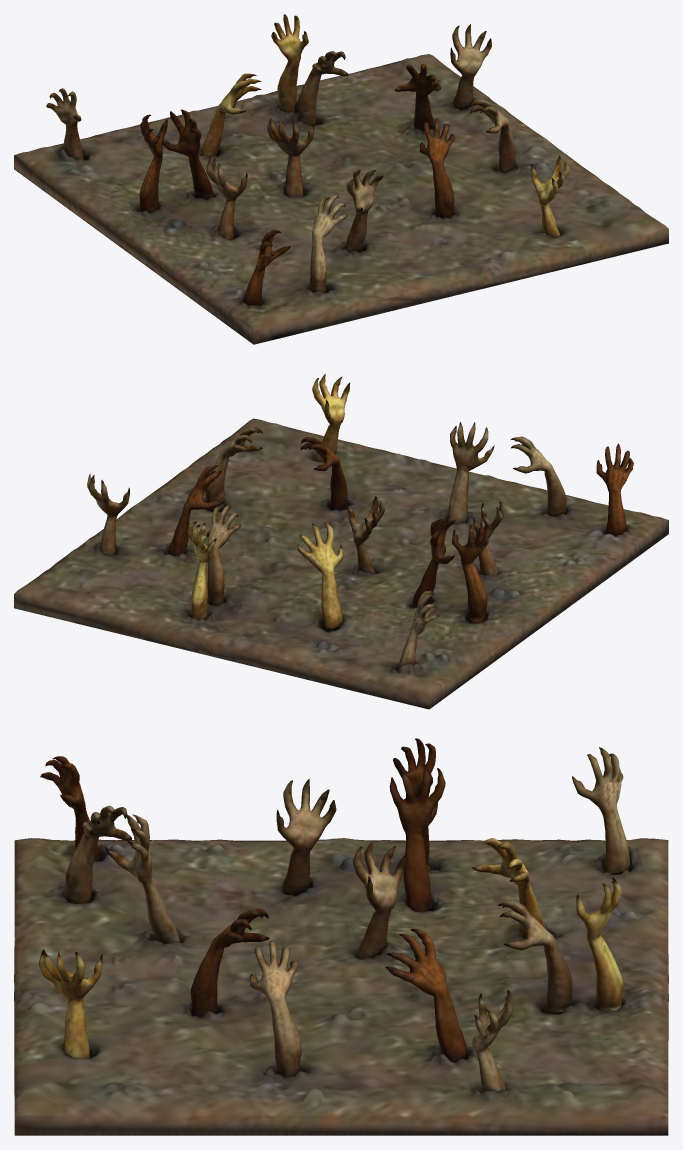
File: MZ4250 - Zombies coming out of ground.glb
The picture shows the model from 3 angles, top to bottom: view 1: azimuth 30°, elevation 25°; view 2: azimuth 150°, elevation 25°; view 3: azimuth 270°, elevation 25°; orthographic projection. The views are drawn at different scales.
Visible parts, largest first — view 1: Zombie arms.002; view 2: Zombie arms.002; view 3: Zombie arms.002.
Part boxes in pixels (left/top/right/bottom): Zombie arms.002: left=14, top=14, right=668, bottom=344; Zombie arms.002: left=14, top=374, right=668, bottom=709; Zombie arms.002: left=14, top=738, right=668, bottom=1135.
Bounding box in the file's own units: 122 × 30.53 × 122.
Materials: 2 (2 with a texture image).
